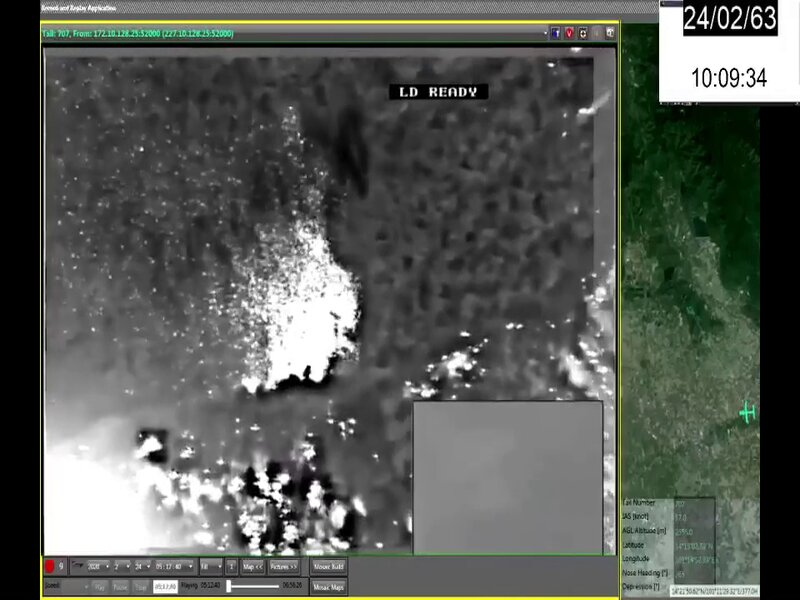Fire: (233, 217, 362, 397)
